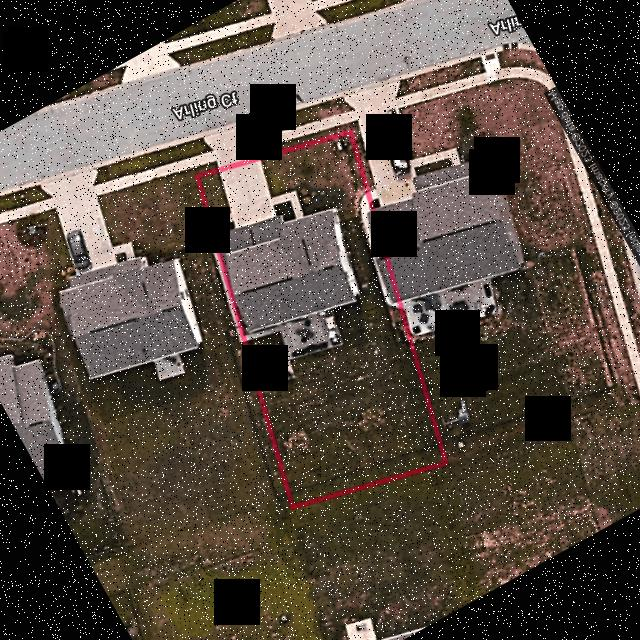Driveway: (220, 161, 275, 229)
Extra Driveway: (202, 121, 260, 168)
Extra Lawn: (254, 98, 344, 139), (257, 122, 350, 156), (185, 139, 213, 157), (193, 161, 219, 175)
Extra Sidewalk: (254, 113, 348, 149), (190, 151, 216, 166)
House: (216, 209, 360, 333)
Other: (262, 309, 342, 384)
Sidewalk: (271, 191, 304, 219), (245, 326, 280, 342), (212, 214, 233, 227), (335, 141, 344, 151)
